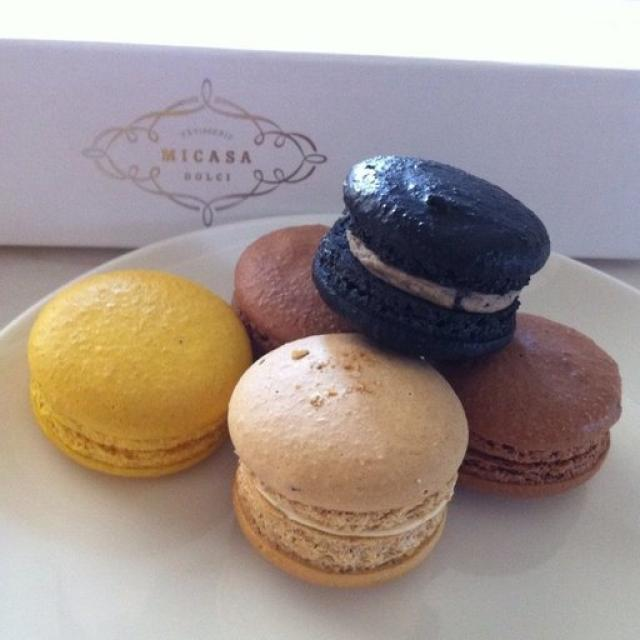Food -Biodegradable-: (27, 154, 625, 578)
